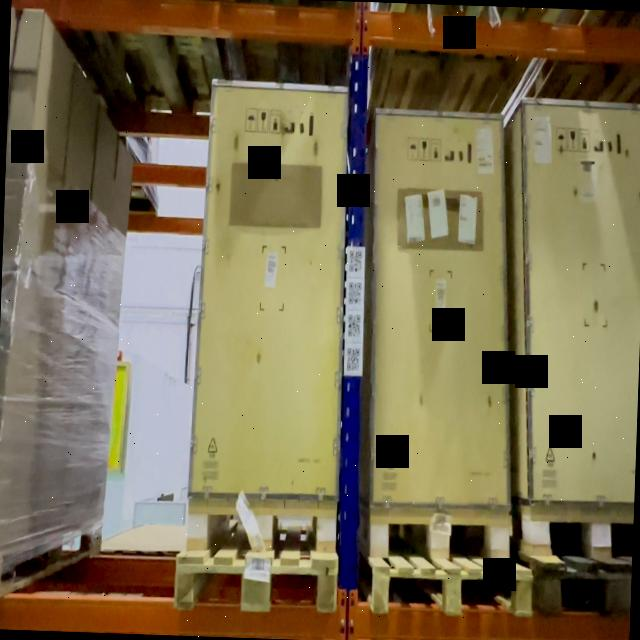box: (198, 80, 345, 494), (368, 109, 516, 505)
